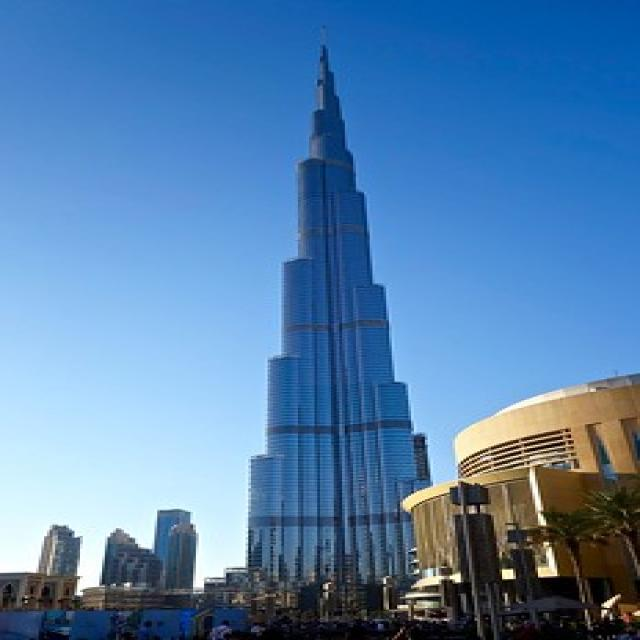building: (233, 33, 451, 612), (148, 502, 202, 598)
